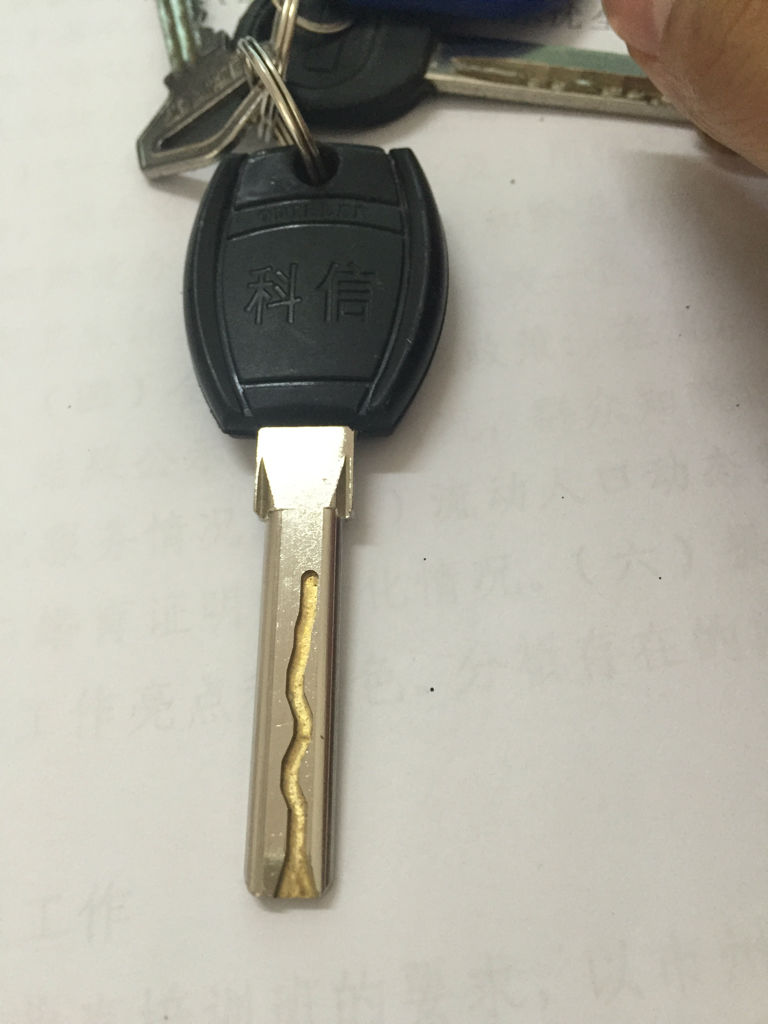key: (161, 121, 519, 914)
